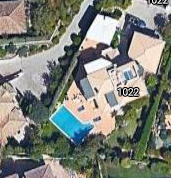pool: (54, 109, 87, 138)
